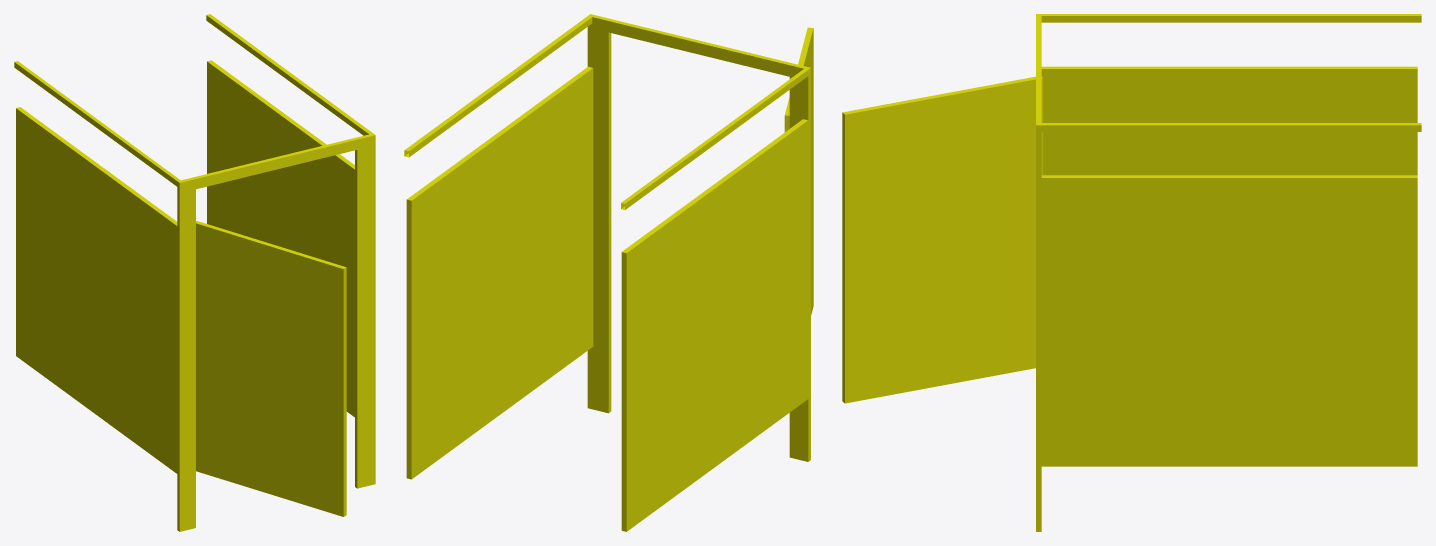
File: SetoBathroomStall1.fbx
3 views of the same model, side by side, from view 1: azimuth 30°, elevation 25°; view 2: azimuth 150°, elevation 25°; view 3: azimuth 270°, elevation 25° (orthographic). The views are drawn at different scales.
Visible parts, largest first — view 1: BathroomStall1, pCube3; view 2: BathroomStall1, pCube3; view 3: BathroomStall1, pCube3.
Boxes of the visible parts, left/top/right/bottom form: BathroomStall1: left=14, top=14, right=375, bottom=531; pCube3: left=196, top=221, right=346, bottom=516; BathroomStall1: left=404, top=14, right=810, bottom=531; pCube3: left=784, top=27, right=813, bottom=315; BathroomStall1: left=1036, top=14, right=1421, bottom=531; pCube3: left=842, top=76, right=1043, bottom=403.
Bounding box in the file's own units: 162 × 276 × 357.
